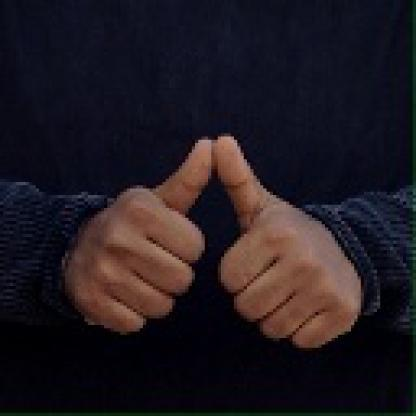A: (72, 133, 351, 355)
